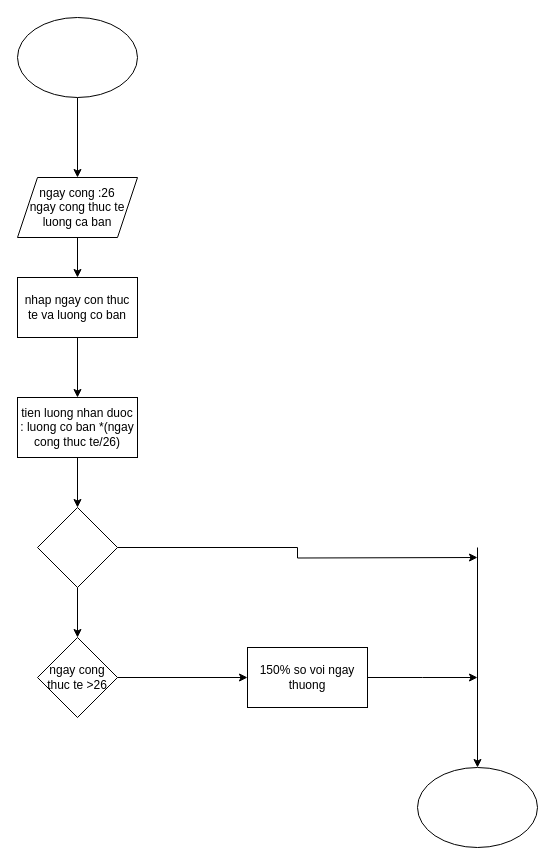
This 555x865 diagram has some shape labels left out. Here are the shapes that lost their labels. From the top down, the centre of each, then its label:
the point at 77,57: begin
the point at 77,547: ngay cong thuc te<26
